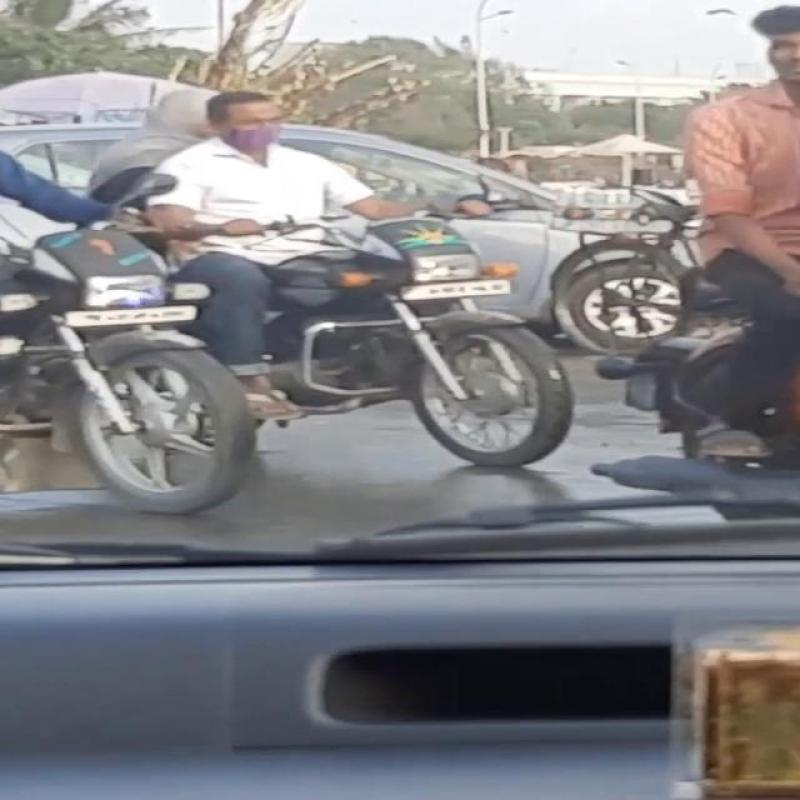nohelmet: (206, 86, 296, 162)
